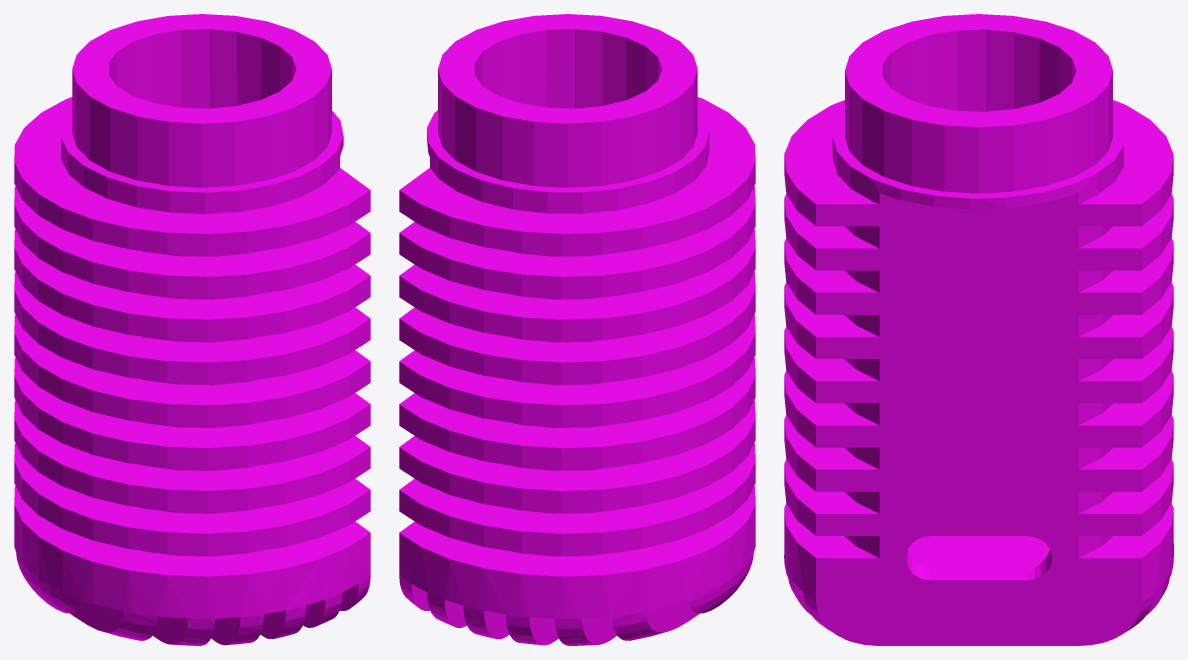
The model's file is engine_cylinder.glb.
3 views of the same model, side by side, from view 1: azimuth 30°, elevation 25°; view 2: azimuth 150°, elevation 25°; view 3: azimuth 270°, elevation 25° (orthographic). The views are drawn at different scales.
Visible parts, largest first — view 1: Node1; view 2: Node1; view 3: Node1.
Boxes of the visible parts, x1,y1,x2,y2 form: Node1: [14, 14, 370, 645]; Node1: [399, 14, 755, 645]; Node1: [784, 14, 1173, 645].
Size of the model in its own units: 22.22 by 38.1 by 25.4.
